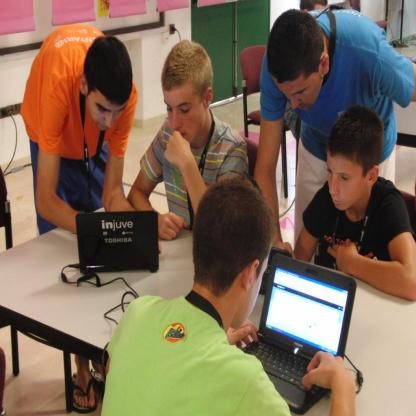board: (235, 253, 357, 416), (77, 212, 159, 272)
